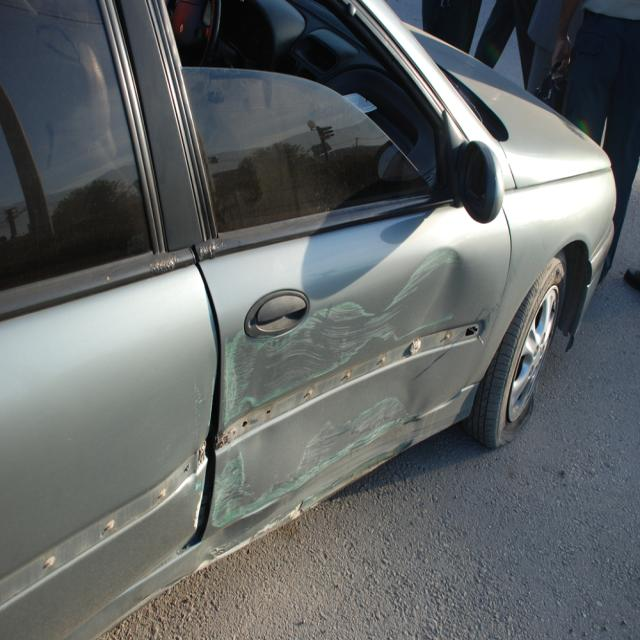dent: (204, 249, 494, 555)
